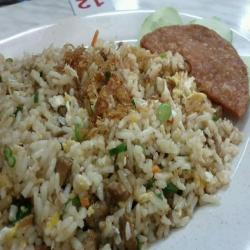rice: (1, 59, 200, 234)
